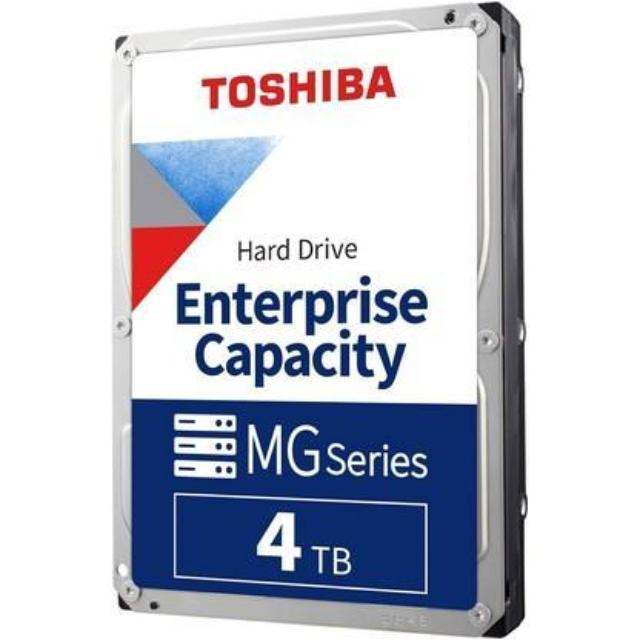DISK: (102, 0, 530, 631)
